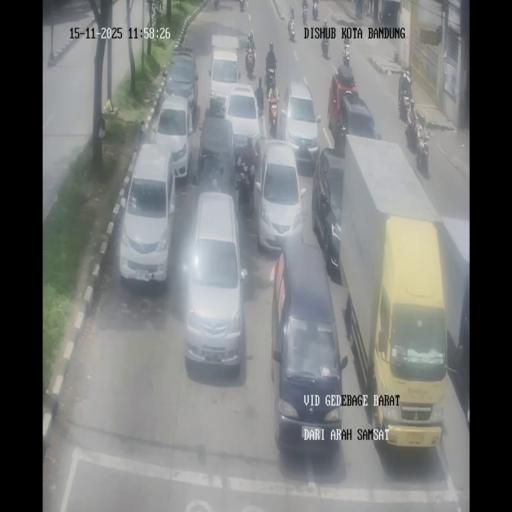car: (272, 243, 344, 453), (182, 192, 246, 370), (120, 142, 178, 284), (255, 139, 304, 254), (313, 148, 346, 280), (152, 94, 193, 181), (280, 79, 320, 168), (223, 83, 261, 164), (334, 88, 378, 154)
motorcycle: (236, 166, 254, 211), (415, 122, 430, 174), (398, 86, 412, 124), (268, 94, 279, 136), (244, 46, 256, 78), (265, 61, 277, 93), (256, 88, 264, 117), (321, 36, 330, 60), (288, 15, 296, 41), (342, 40, 350, 66), (246, 32, 255, 50), (301, 3, 308, 25), (311, 0, 318, 20), (153, 0, 162, 15), (362, 0, 369, 18), (146, 0, 153, 16), (378, 9, 383, 23), (239, 0, 245, 11), (289, 5, 294, 18), (213, 0, 218, 9)
truck: (336, 138, 458, 448)
